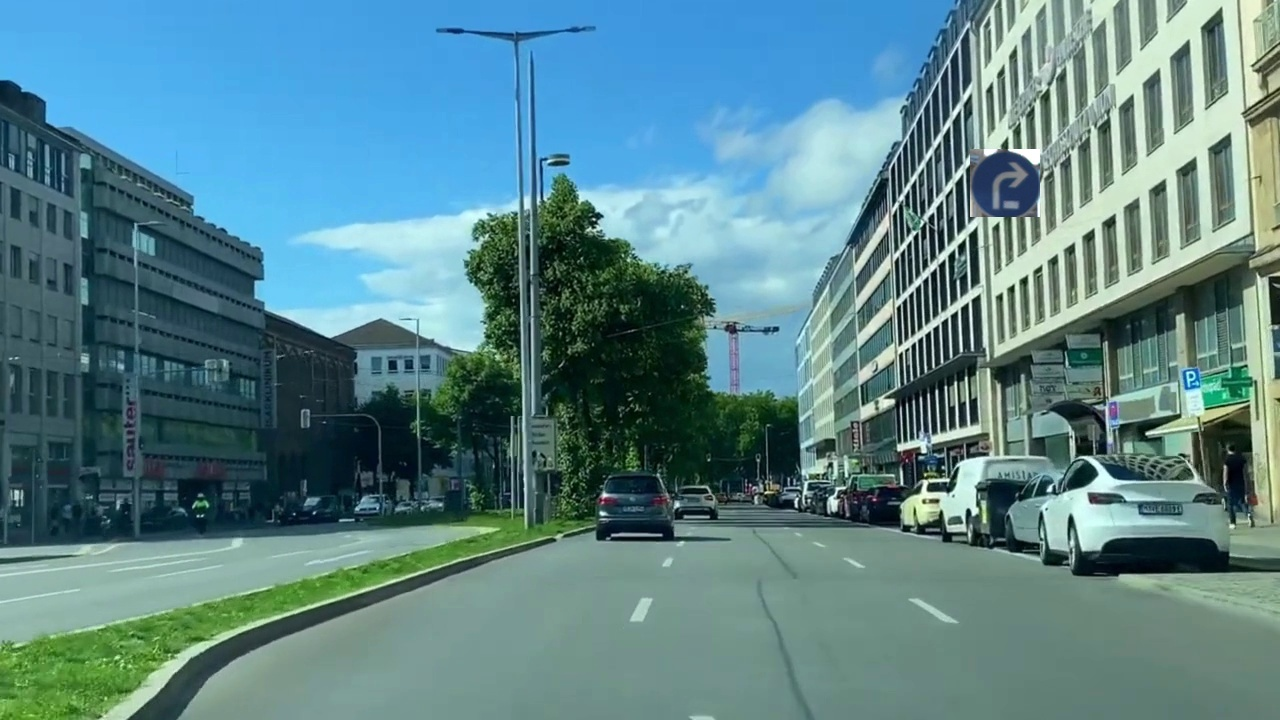Turn right: (970, 149, 1040, 217)
